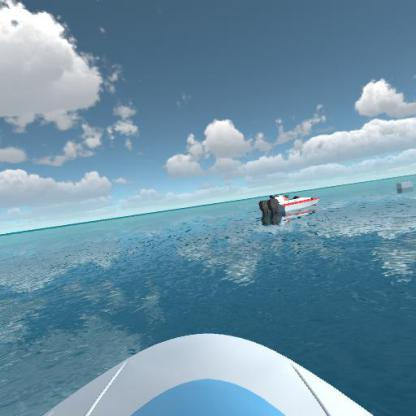usv3: (254, 186, 320, 222)
